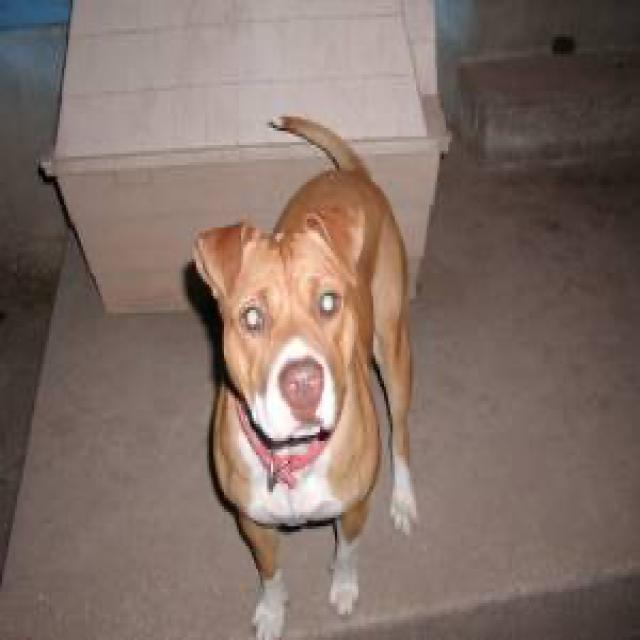dog: (190, 202, 363, 438)
